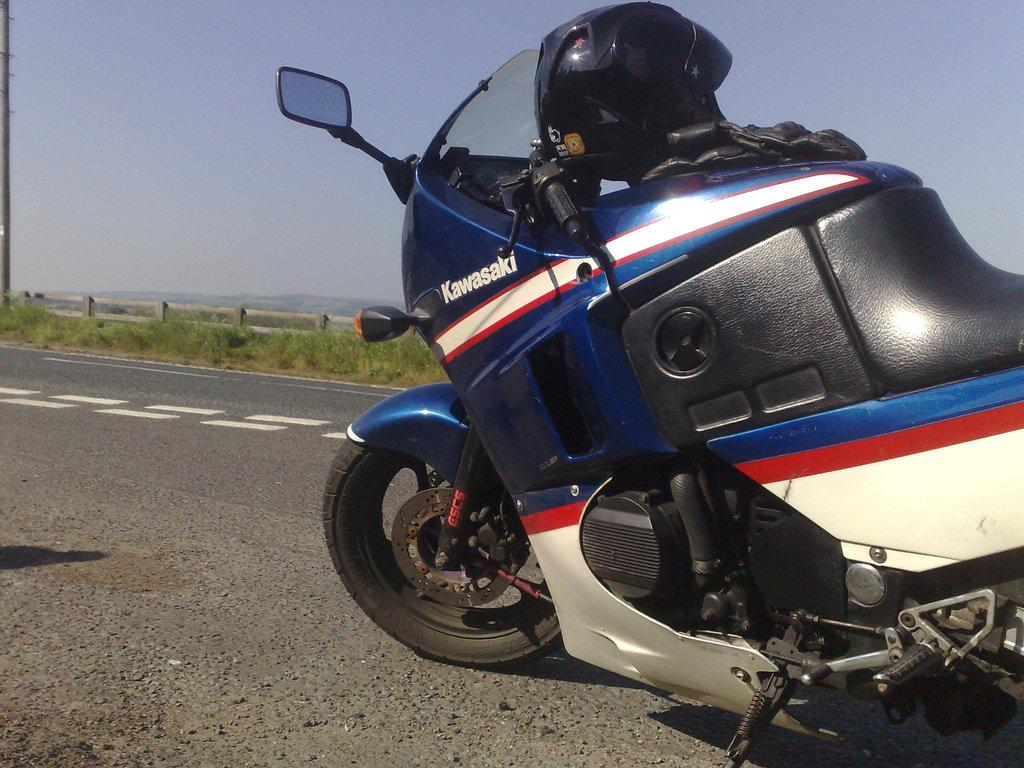helmet: (533, 2, 733, 167)
